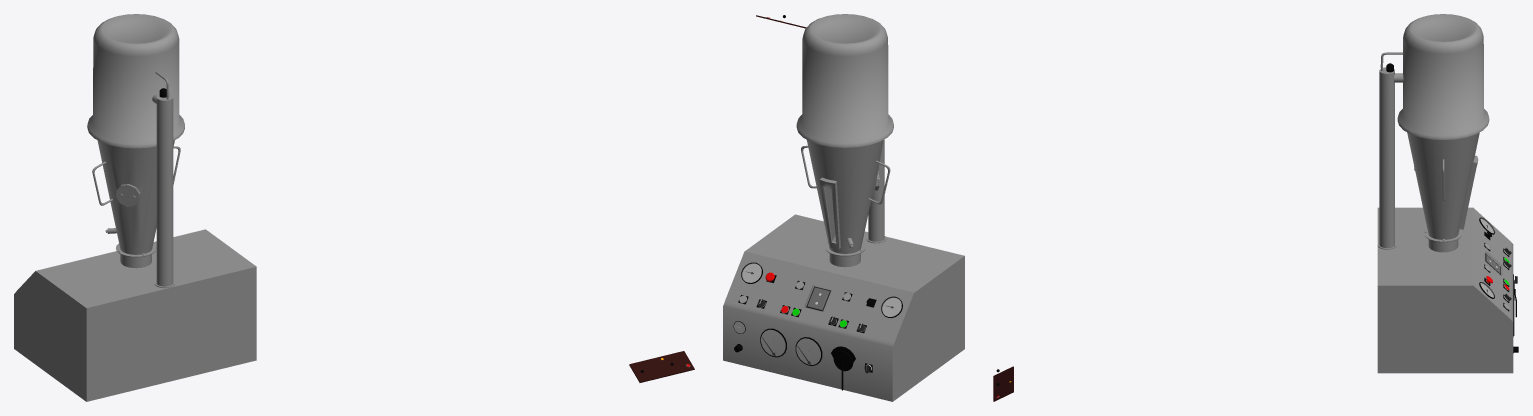
File: Machine_decoupe.FBX
3 renders of one model, left to right at view 1: azimuth 30°, elevation 25°; view 2: azimuth 150°, elevation 25°; view 3: azimuth 270°, elevation 25°, orthographic. The views are drawn at different scales.
Visible parts, largest first — view 1: Socle, Haut, Pillier, Cylindre001, Tableau; view 2: Socle, Haut, Pillier, Cylindre001, Contoure_compteur004, Contoure_compteur003, Boîte002, Poignet_bouton_socle, Boîte001, Contoure_compteur, Contoure_compteur001, vitre; view 3: Socle, Haut, Pillier, Cylindre001, Tableau.
Part boxes in pixels (x1,y1,x2,y2): Socle: [14, 229, 256, 401]; Haut: [87, 14, 184, 148]; Pillier: [92, 140, 180, 269]; Cylindre001: [152, 71, 174, 288]; Tableau: [629, 351, 694, 382]; Socle: [723, 214, 964, 401]; Haut: [796, 14, 893, 147]; Pillier: [801, 140, 890, 268]; Cylindre001: [866, 139, 886, 243]; Contoure_compteur004: [795, 337, 822, 365]; Contoure_compteur003: [760, 328, 786, 357]; Boîte002: [804, 285, 831, 311]; Poignet_bouton_socle: [831, 346, 855, 371]; Boîte001: [806, 286, 831, 311]; Contoure_compteur: [741, 262, 762, 283]; Contoure_compteur001: [881, 296, 902, 317]; vitre: [825, 188, 835, 241]; Socle: [1377, 207, 1513, 373]; Haut: [1397, 14, 1489, 139]; Pillier: [1407, 132, 1479, 253]; Cylindre001: [1377, 52, 1403, 249]; Tableau: [993, 366, 1013, 401].
Size of the model in its own units: 195 by 151 by 234.
